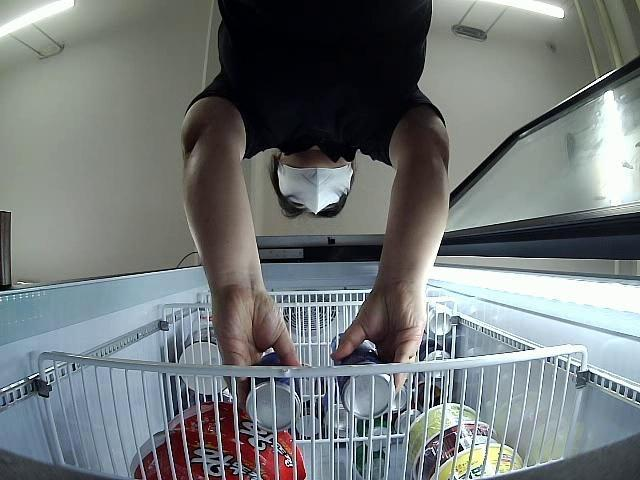16_hot6: (331, 330, 396, 419), (246, 351, 306, 434)
